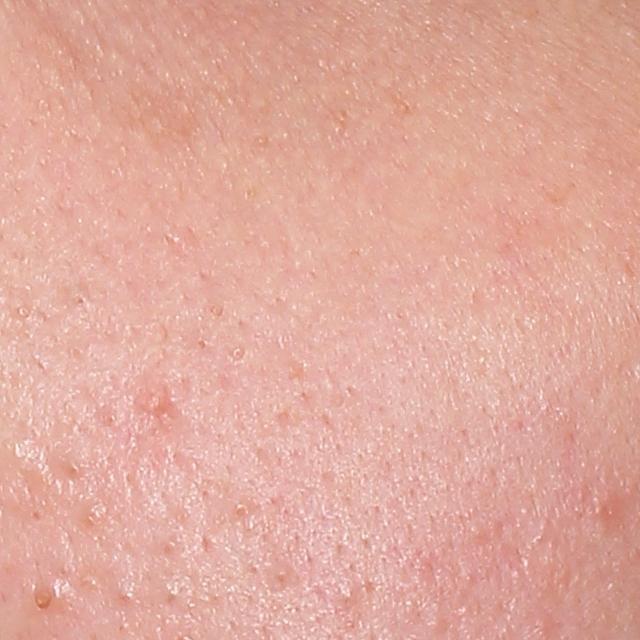comedo: (31, 587, 52, 613), (70, 291, 91, 312), (340, 585, 359, 605), (233, 501, 251, 519)
